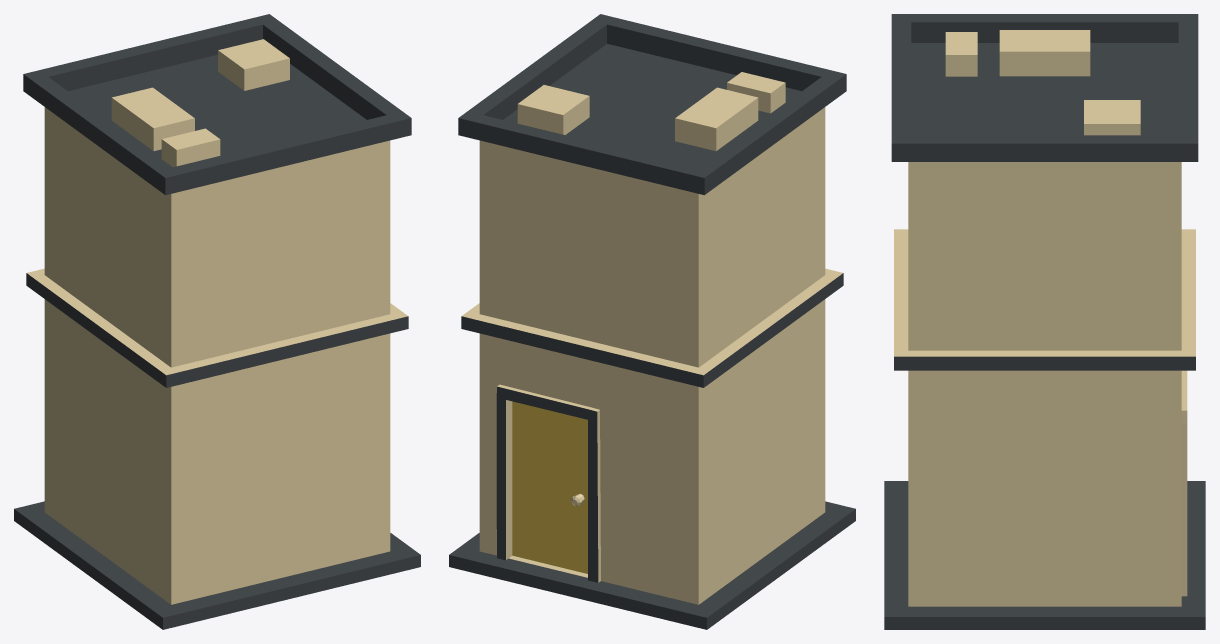
File: Casa.fbx
The picture shows the model from 3 angles, left to right: view 1: azimuth 30°, elevation 25°; view 2: azimuth 150°, elevation 25°; view 3: azimuth 270°, elevation 25°; orthographic projection. The views are drawn at different scales.
Visible parts, largest first — view 1: Cube; view 2: Cube; view 3: Cube.
Boxes of the visible parts, bbox=[...] form: Cube: bbox=[14, 14, 420, 629]; Cube: bbox=[449, 14, 855, 629]; Cube: bbox=[884, 14, 1205, 629].
Bounding box in the file's own units: 708 × 1186 × 708.
